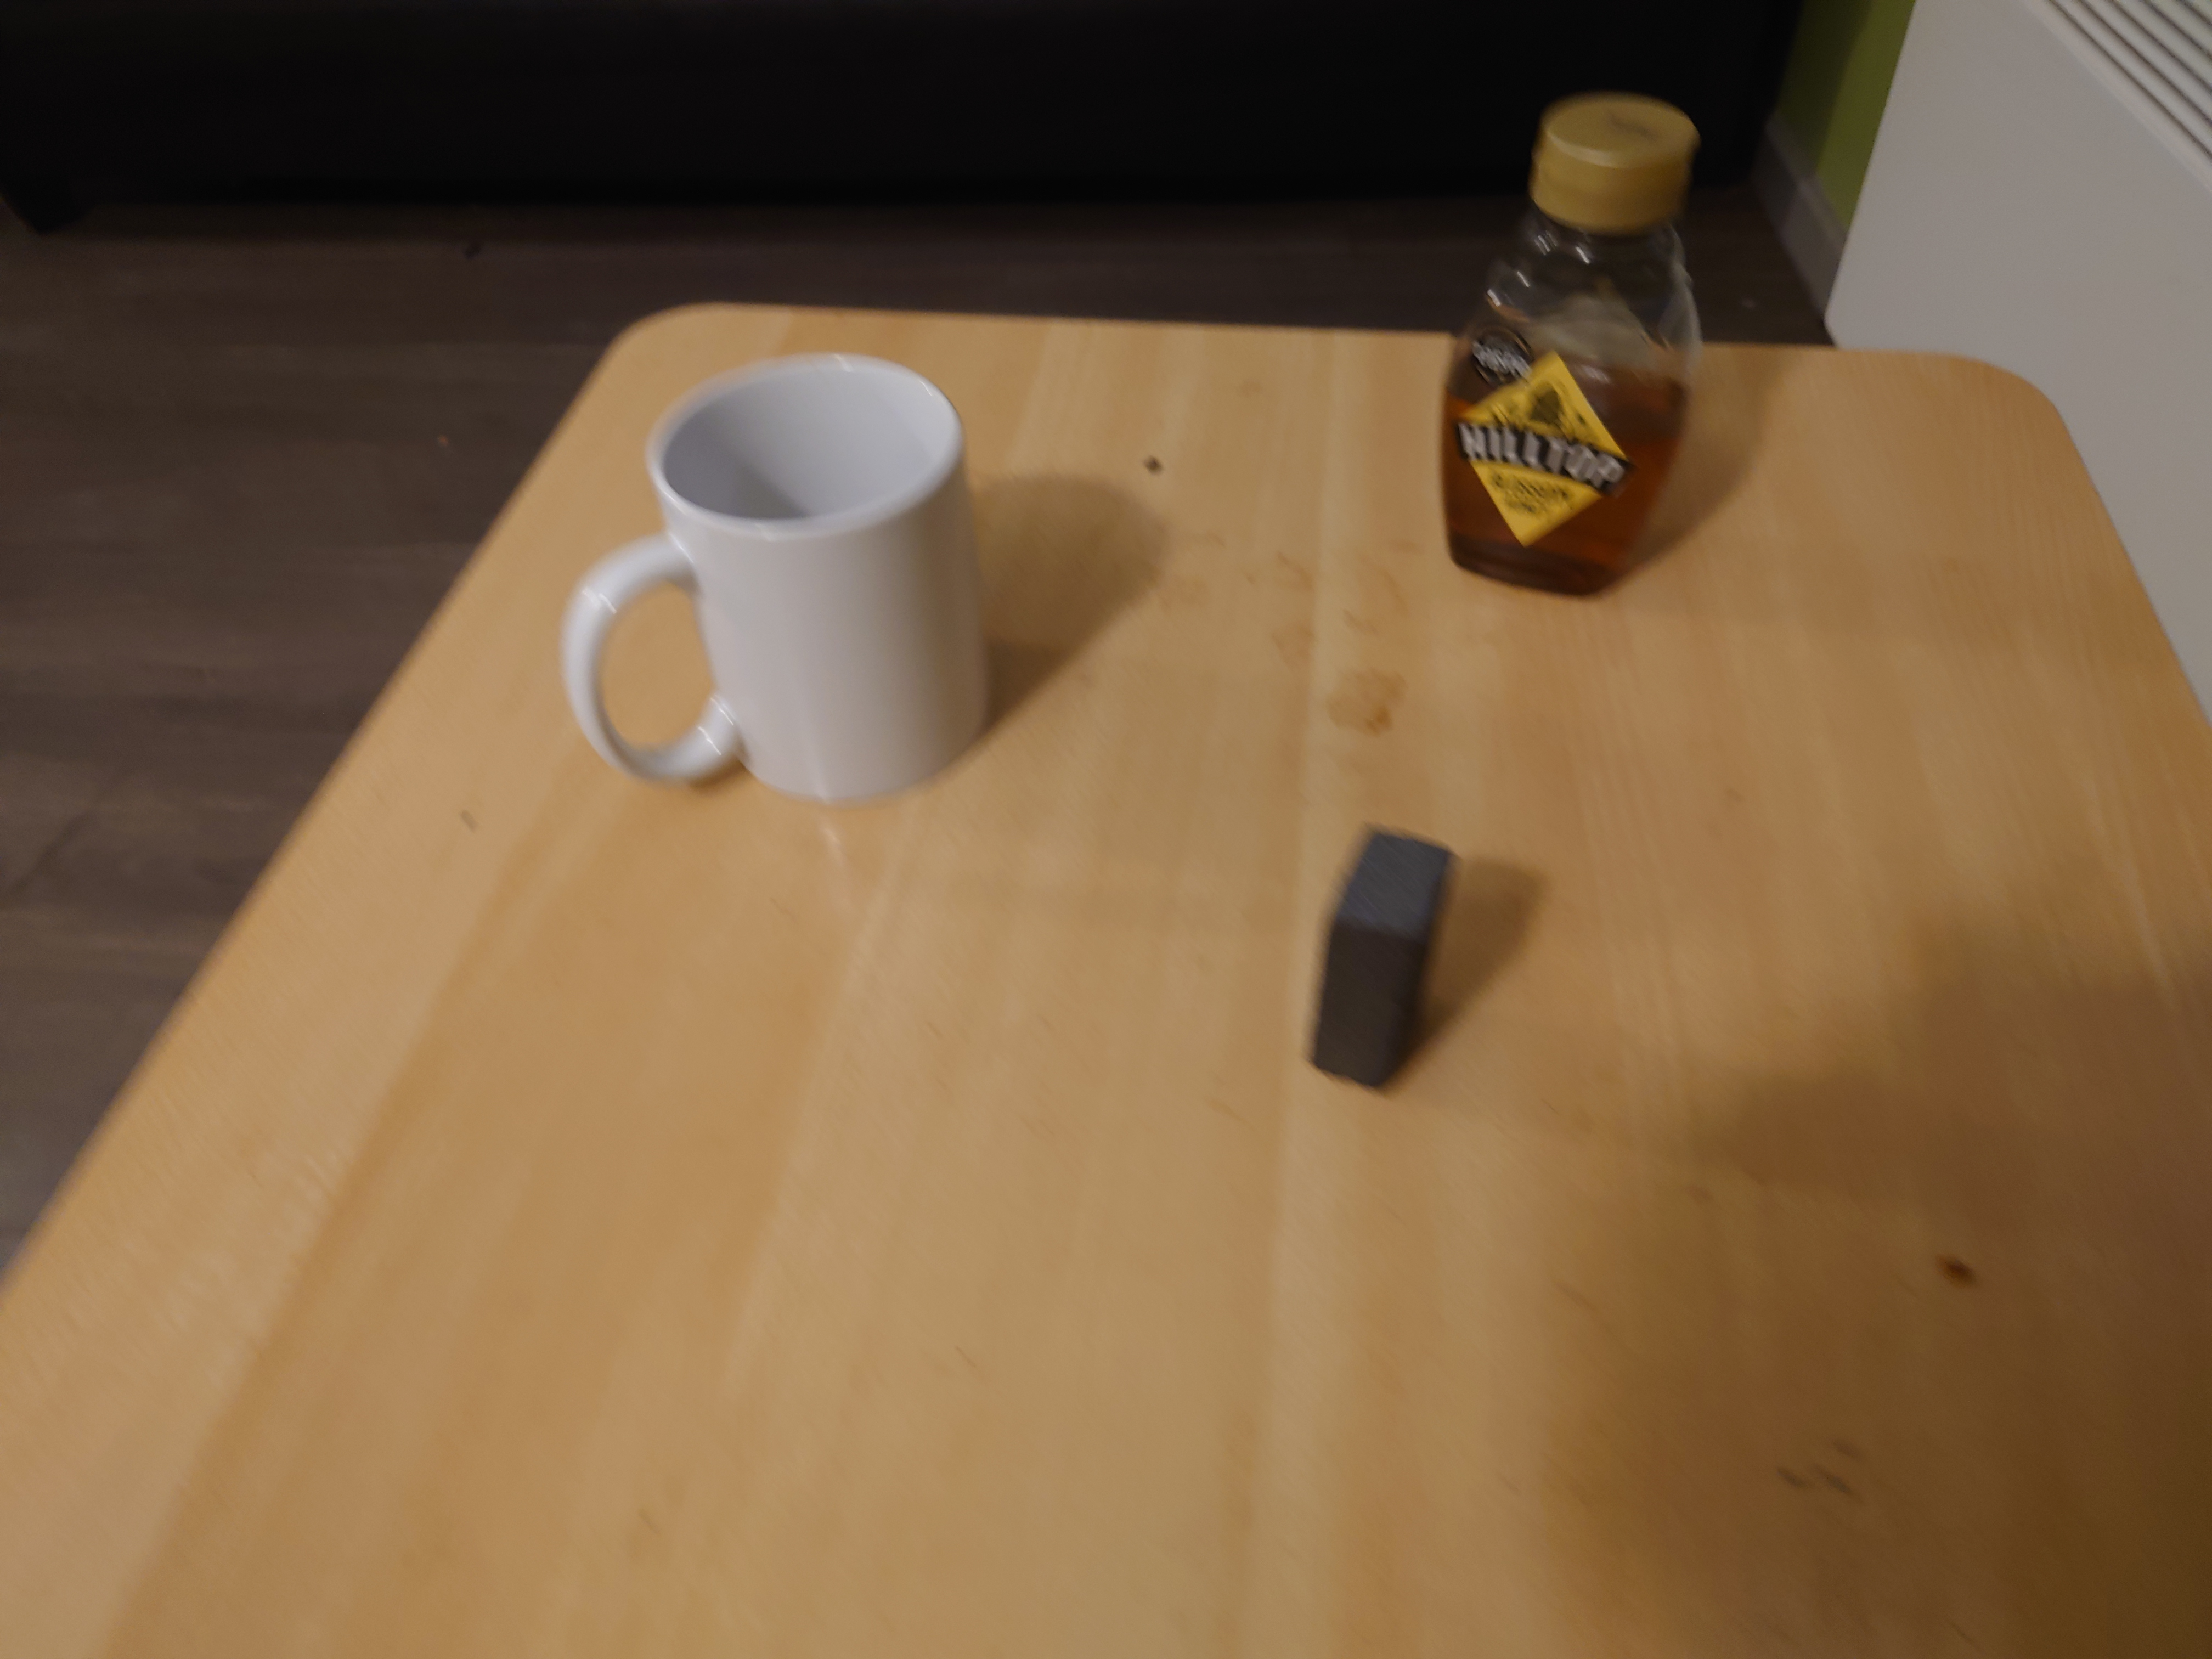cup: (577, 350, 991, 812)
target: (1306, 823, 1460, 1094)
